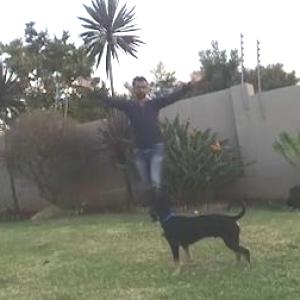takeoff: (66, 70, 202, 213)
